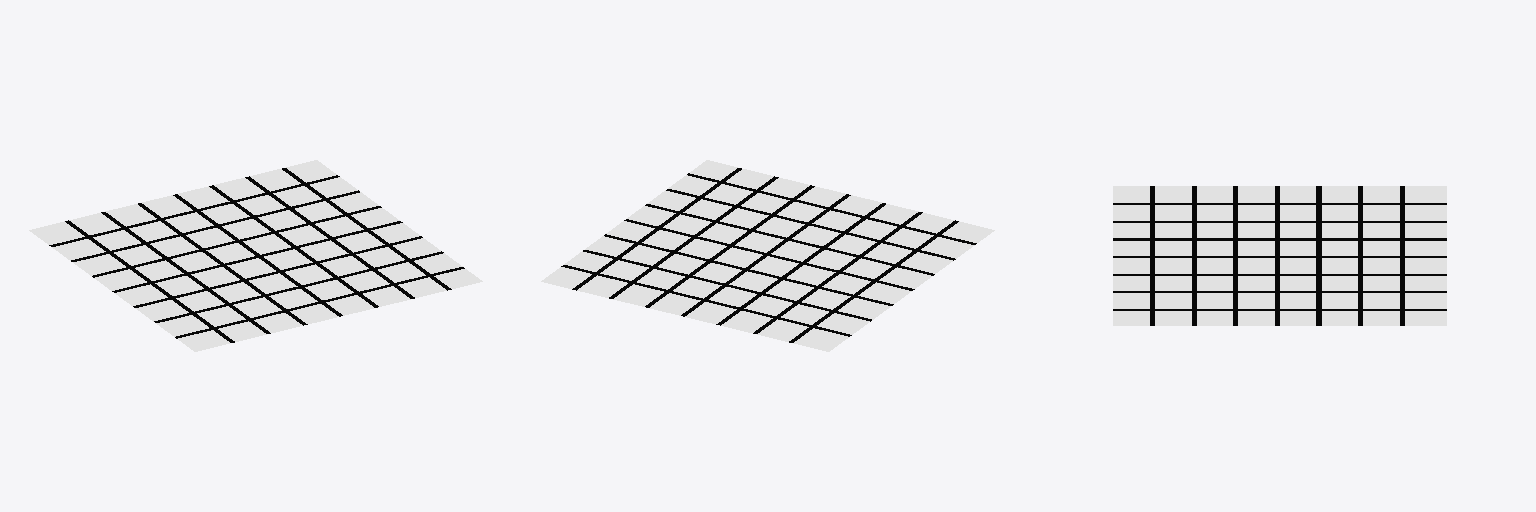
3 renders of one model, left to right at view 1: azimuth 30°, elevation 25°; view 2: azimuth 150°, elevation 25°; view 3: azimuth 270°, elevation 25°, orthographic.
Visible parts, largest first — view 1: 平面; view 2: 平面; view 3: 平面.
Part boxes in pixels (x1,y1,x2,y2): 平面: (29, 160, 482, 351); 平面: (541, 160, 994, 351); 平面: (1113, 186, 1446, 325).
Size of the model in its own units: 10 by 0 by 10.
Materials: 1 (1 with a texture image).